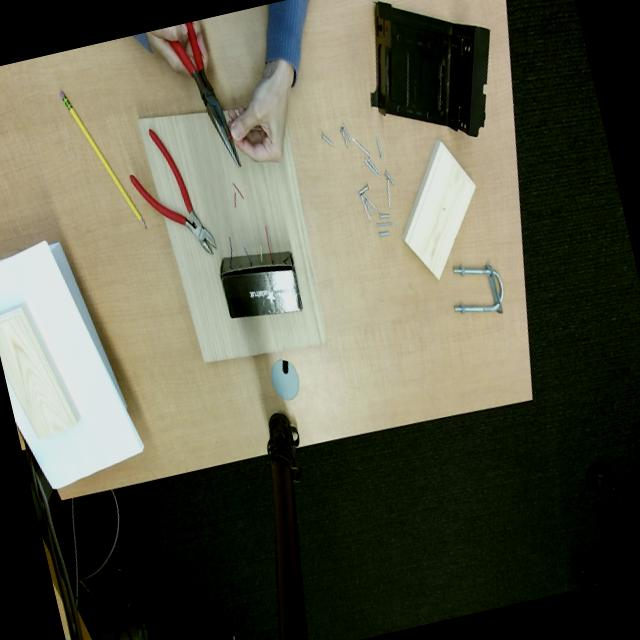pliers: (130, 129, 215, 253), (170, 22, 240, 165)
